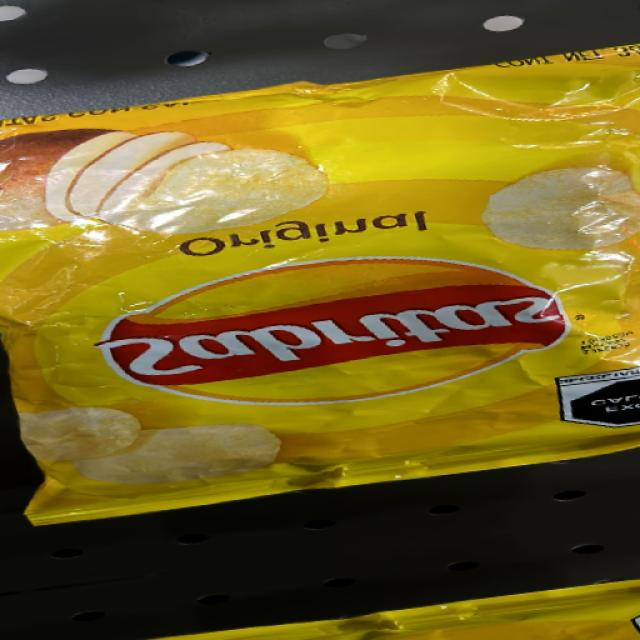sabritasOriginal: (0, 112, 640, 460)
